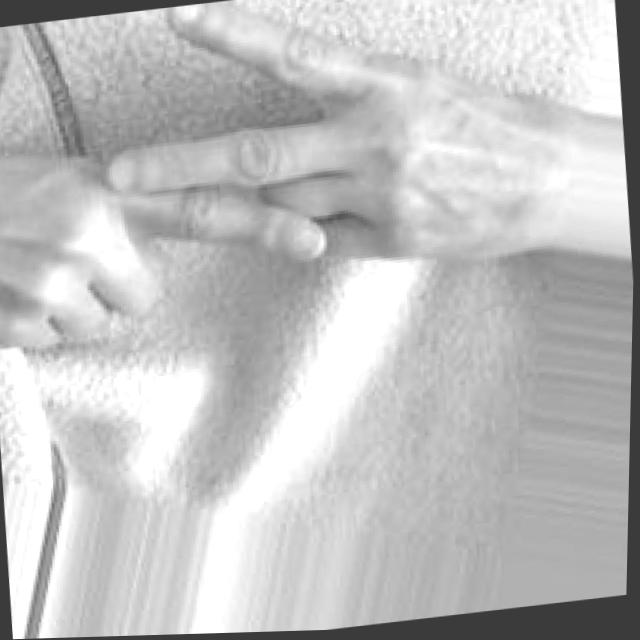Z: (0, 0, 593, 359)
